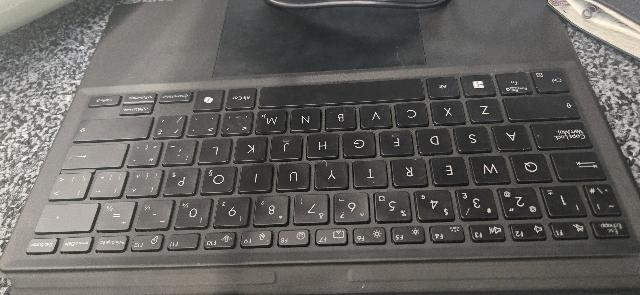Keyboard: (23, 71, 630, 264)
